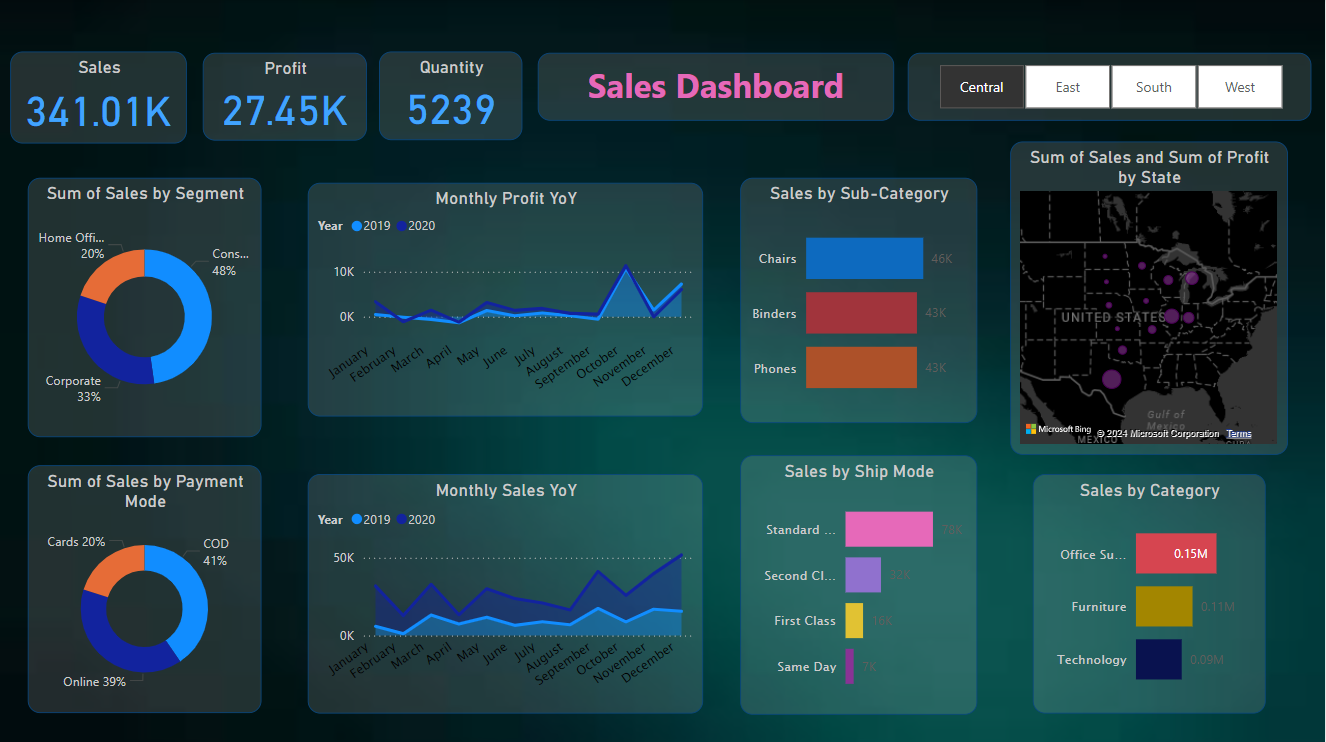

This screenshot's page, from the dashboard's own definition file:
{"tool":"powerbi","page":{"name":"Page 1","canvas":[1280,720],"ordinal":0},"visuals":[{"type":"clusteredBarChart","title":"Sales by Category","fields":{"Category":["SuperStore_Sales_Dataset.Category"],"Y":["Sum(SuperStore_Sales_Dataset.Sales)"]},"box":[997.9,458.6,224.6,231.3],"z":0},{"type":"clusteredBarChart","title":"Sales by Sub-Category","fields":{"Category":["SuperStore_Sales_Dataset.Sub-Category"],"Y":["Sum(SuperStore_Sales_Dataset.Sales)"]},"box":[715.5,172.1,228.6,236.7],"z":1000},{"type":"clusteredBarChart","title":"Sales by Ship Mode","fields":{"Category":["SuperStore_Sales_Dataset.Ship Mode"],"Y":["Sum(SuperStore_Sales_Dataset.Sales)"]},"box":[715.5,439.8,228.6,250.1],"z":2000},{"type":"stackedAreaChart","title":"Monthly Profit YoY","fields":{"Category":["SuperStore_Sales_Dataset.Order Date.Variation.Date Hierarchy.Month","SuperStore_Sales_Dataset.Order Date.Variation.Date Hierarchy.Day"],"Series":["SuperStore_Sales_Dataset.Order Date.Variation.Date Hierarchy.Year"],"Y":["Sum(SuperStore_Sales_Dataset.Profit)"]},"box":[298.6,177.5,381.9,225.9],"z":3000},{"type":"stackedAreaChart","title":"Monthly Sales YoY","fields":{"Category":["SuperStore_Sales_Dataset.Order Date.Variation.Date Hierarchy.Month","SuperStore_Sales_Dataset.Order Date.Variation.Date Hierarchy.Day"],"Series":["SuperStore_Sales_Dataset.Order Date.Variation.Date Hierarchy.Year"],"Y":["Sum(SuperStore_Sales_Dataset.Sales)"]},"box":[298.6,458.6,381.9,231.3],"z":4000},{"type":"map","fields":{"Category":["SuperStore_Sales_Dataset.State"],"Size":["Sum(SuperStore_Sales_Dataset.Sales)"]},"box":[976.3,137.2,267.6,302.6],"z":5000},{"type":"donutChart","fields":{"Category":["SuperStore_Sales_Dataset.Segment"],"Y":["Sum(SuperStore_Sales_Dataset.Sales)"]},"box":[28.2,172.1,225.9,250.1],"z":6000},{"type":"donutChart","fields":{"Category":["SuperStore_Sales_Dataset.Payment Mode"],"Y":["Sum(SuperStore_Sales_Dataset.Sales)"]},"box":[28.2,450.5,225.9,239.4],"z":7000},{"type":"slicer","fields":{"Values":["SuperStore_Sales_Dataset.Region"]},"box":[876.8,52.5,390,65.9],"z":8000},{"type":"textbox","box":[520.5,52.5,344.3,65.9],"z":9000},{"type":"card","title":"Sales","fields":{"Values":["Sum(SuperStore_Sales_Dataset.Sales)"]},"box":[10.8,51.1,170.8,88.8],"z":10000},{"type":"card","title":"Profit","fields":{"Values":["Sum(SuperStore_Sales_Dataset.Profit)"]},"box":[196.3,52.5,158.7,84.7],"z":11000},{"type":"card","title":"Quantity","fields":{"Values":["Sum(SuperStore_Sales_Dataset.Quantity)"]},"box":[368.5,52.5,138.5,84.7],"z":11001}]}

Visuals, with their boxes in screenshot pixels (x1, y1, x2, y2), scaled from the page's 1280x720 canvas onto the 1326x742 screenshot:
"Sales by Category" clusteredBarChart: 1034, 473, 1266, 711
"Sales by Sub-Category" clusteredBarChart: 741, 177, 978, 421
"Sales by Ship Mode" clusteredBarChart: 741, 453, 978, 711
"Monthly Profit YoY" stackedAreaChart: 309, 183, 705, 416
"Monthly Sales YoY" stackedAreaChart: 309, 473, 705, 711
map - SuperStore_Sales_Dataset.State x Sum(SuperStore_Sales_Dataset.Sales): 1011, 141, 1289, 453
donutChart - SuperStore_Sales_Dataset.Segment x Sum(SuperStore_Sales_Dataset.Sales): 29, 177, 263, 435
donutChart - SuperStore_Sales_Dataset.Payment Mode x Sum(SuperStore_Sales_Dataset.Sales): 29, 464, 263, 711
slicer - SuperStore_Sales_Dataset.Region: 908, 54, 1312, 122
textbox: 539, 54, 896, 122
"Sales" card: 11, 53, 188, 144
"Profit" card: 203, 54, 368, 141
"Quantity" card: 382, 54, 525, 141
